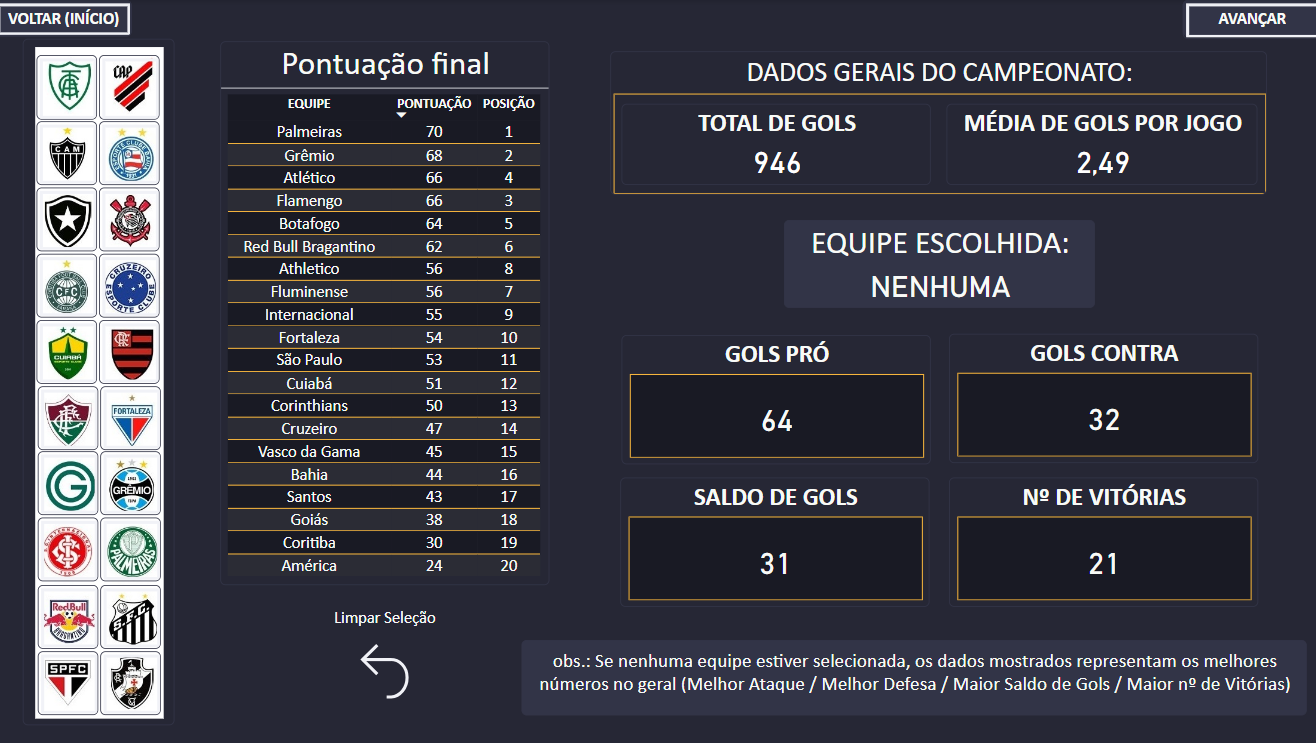

Layout of this report page (visuals, bound fields, positions):
{"tool":"powerbi","page":{"name":"1","canvas":[1280,720],"ordinal":1},"visuals":[{"type":"shape","title":"DADOS GERAIS DO CAMPEONATO:","box":[595,50,633.8,138.8],"z":1000},{"type":"card","title":"TOTAL DE GOLS","fields":{"Values":["Sum(JOGOS_BRASILEIRAO_2023.GOLS_POR_PARTIDA)"]},"box":[605,100,298.8,78.8],"z":5000},{"type":"card","title":"MÉDIA DE GOLS POR JOGO","fields":{"Values":["JOGOS_BRASILEIRAO_2023.Medida"]},"box":[918.8,100,300,78.8],"z":6000},{"type":"tableEx","title":"Pontuação final","fields":{"Values":["PONTUACAO_FINAL_BR23.EQUIPE","PONTUACAO_FINAL_BR23.PONTUACAO_TOTAL","PONTUACAO_FINAL_BR23.POSIÇÃO_FINAL"]},"box":[218.8,40,317.5,525],"z":7000},{"type":"cardVisual","title":"GOLS PRÓ","fields":{"Data":["GOLS_BR23.Melhor_Ataque"]},"box":[605,322.8,298.8,125],"z":8000},{"type":"cardVisual","title":"GOLS CONTRA","fields":{"Data":["GOLS_BR23.Melhor_Defesa"]},"box":[922,322.2,298,125.1],"z":9000},{"type":"cardVisual","title":"Nº DE VITÓRIAS","fields":{"Data":["Max(Nº_VITORIAS.NUMERO_DE_VITORIAS)"]},"box":[922,460.8,298,125],"z":10000},{"type":"textbox","box":[508.8,617.5,757.5,72.5],"z":11000},{"type":"image","box":[27.5,37.5,146.2,662.5],"z":12000},{"type":"actionButton","box":[101.6,52.5,58.8,62.5],"z":13000},{"type":"actionButton","box":[101.6,117.5,58.8,61.2],"z":14000},{"type":"actionButton","title":"Limpar Seleção","box":[322.5,586.2,110,98.8],"z":15000},{"type":"actionButton","box":[101.6,181.2,58.8,61.2],"z":16000},{"type":"actionButton","box":[101.6,245,58.8,61.2],"z":17000},{"type":"actionButton","box":[101.6,308.8,58.8,61.2],"z":18000},{"type":"actionButton","box":[102.9,372.5,58.8,61.2],"z":19000},{"type":"actionButton","box":[102.9,435,58.8,61.2],"z":20000},{"type":"actionButton","box":[102.9,498.8,58.8,61.2],"z":21000},{"type":"actionButton","box":[102.9,565,58.8,61.2],"z":22000},{"type":"actionButton","box":[102.9,628.8,58.8,61.2],"z":23000},{"type":"actionButton","box":[40.6,52.5,58.8,62.5],"z":24000},{"type":"actionButton","box":[40.6,117.5,58.8,61.2],"z":25000},{"type":"actionButton","box":[40.6,181.2,58.8,61.2],"z":26000},{"type":"actionButton","box":[40.6,245,58.8,61.2],"z":27000},{"type":"actionButton","box":[40.6,308.8,58.8,61.2],"z":28000},{"type":"actionButton","box":[41.9,372.5,58.8,61.2],"z":29000},{"type":"actionButton","box":[41.9,435,58.8,61.2],"z":30000},{"type":"actionButton","box":[41.9,498.8,58.8,61.2],"z":31000},{"type":"actionButton","box":[41.9,565,58.8,61.2],"z":32000},{"type":"actionButton","box":[41.9,628.8,58.8,61.2],"z":33000},{"type":"cardVisual","title":"SALDO DE GOLS","fields":{"Data":["GOLS_BR23.Maior_Saldo_de_gols"]},"box":[603.8,460.2,298.8,125],"z":34000},{"type":"textbox","box":[0,0,132.5,35],"z":35000},{"type":"textbox","box":[1147.5,0,132.5,35],"z":36000},{"type":"card","title":"EQUIPE ESCOLHIDA:","fields":{"Values":["PONTUACAO_FINAL_BR23.Valor do Cartão"]},"box":[762.5,212.5,300,85],"z":37000},{"type":"actionButton","box":[0,0,132.5,35],"z":38000},{"type":"actionButton","box":[1147.5,0,132.5,37.5],"z":39000}]}

Visuals, with their boxes in screenshot pixels (x1, y1, x2, y2), scaled from the page's 1280x720 canvas onto the 1316x743 screenshot:
"DADOS GERAIS DO CAMPEONATO:" shape: <bbox>612, 52, 1263, 195</bbox>
"TOTAL DE GOLS" card: <bbox>622, 103, 929, 185</bbox>
"MÉDIA DE GOLS POR JOGO" card: <bbox>945, 103, 1253, 185</bbox>
"Pontuação final" tableEx: <bbox>225, 41, 551, 583</bbox>
"GOLS PRÓ" cardVisual: <bbox>622, 333, 929, 462</bbox>
"GOLS CONTRA" cardVisual: <bbox>948, 332, 1254, 462</bbox>
"Nº DE VITÓRIAS" cardVisual: <bbox>948, 476, 1254, 605</bbox>
textbox: <bbox>523, 637, 1302, 712</bbox>
image: <bbox>28, 39, 179, 722</bbox>
actionButton: <bbox>104, 54, 165, 119</bbox>
actionButton: <bbox>104, 121, 165, 184</bbox>
"Limpar Seleção" actionButton: <bbox>332, 605, 445, 707</bbox>
actionButton: <bbox>104, 187, 165, 250</bbox>
actionButton: <bbox>104, 253, 165, 316</bbox>
actionButton: <bbox>104, 319, 165, 382</bbox>
actionButton: <bbox>106, 384, 166, 448</bbox>
actionButton: <bbox>106, 449, 166, 512</bbox>
actionButton: <bbox>106, 515, 166, 578</bbox>
actionButton: <bbox>106, 583, 166, 646</bbox>
actionButton: <bbox>106, 649, 166, 712</bbox>
actionButton: <bbox>42, 54, 102, 119</bbox>
actionButton: <bbox>42, 121, 102, 184</bbox>
actionButton: <bbox>42, 187, 102, 250</bbox>
actionButton: <bbox>42, 253, 102, 316</bbox>
actionButton: <bbox>42, 319, 102, 382</bbox>
actionButton: <bbox>43, 384, 104, 448</bbox>
actionButton: <bbox>43, 449, 104, 512</bbox>
actionButton: <bbox>43, 515, 104, 578</bbox>
actionButton: <bbox>43, 583, 104, 646</bbox>
actionButton: <bbox>43, 649, 104, 712</bbox>
"SALDO DE GOLS" cardVisual: <bbox>621, 475, 928, 604</bbox>
textbox: <bbox>0, 0, 136, 36</bbox>
textbox: <bbox>1180, 0, 1315, 36</bbox>
"EQUIPE ESCOLHIDA:" card: <bbox>784, 219, 1092, 307</bbox>
actionButton: <bbox>0, 0, 136, 36</bbox>
actionButton: <bbox>1180, 0, 1315, 39</bbox>
